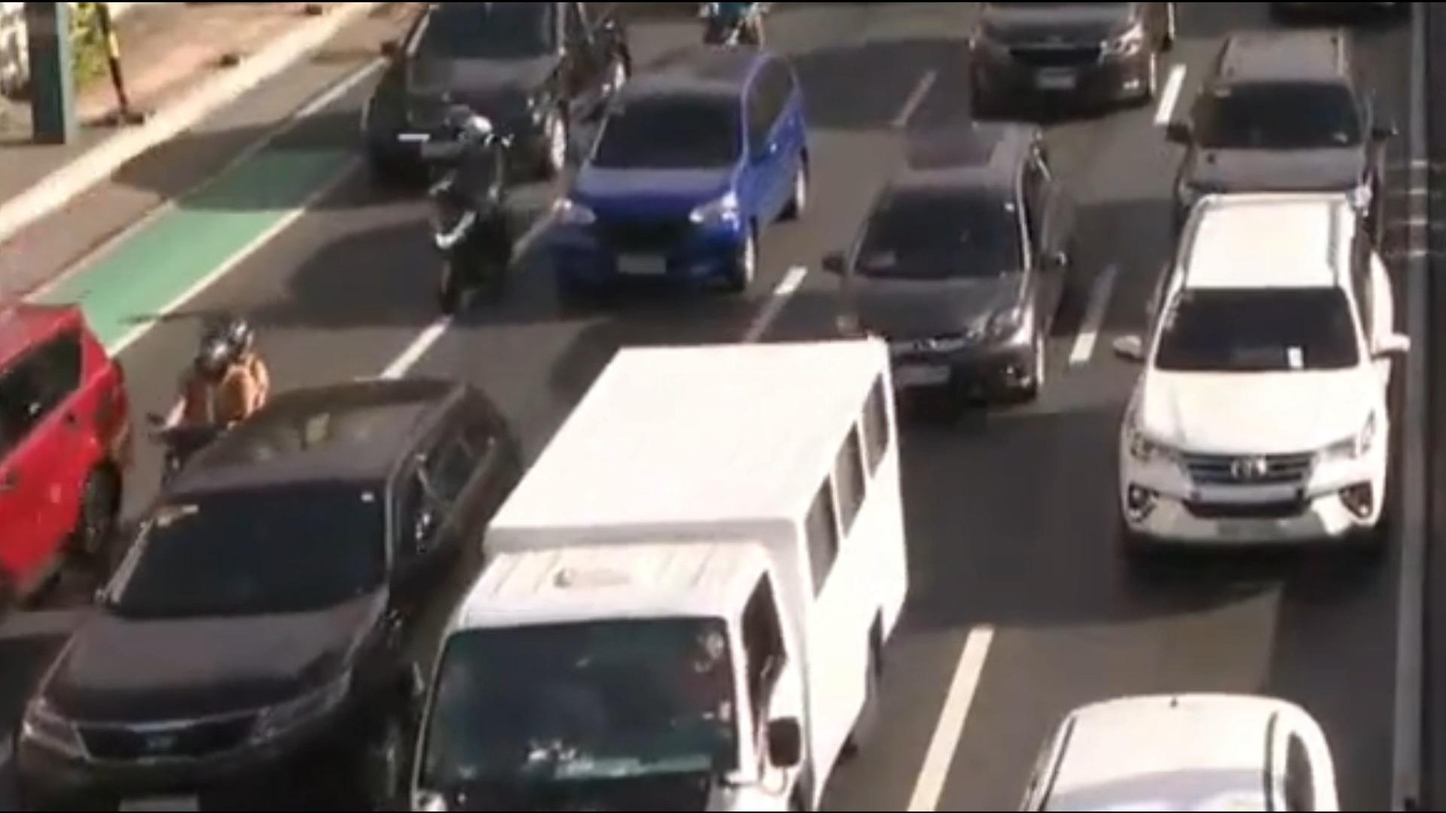Motorcycle: (418, 113, 510, 318), (166, 311, 250, 472)
Multicab: (439, 341, 906, 813)
SUV: (26, 388, 505, 813), (1113, 192, 1401, 559), (823, 105, 1090, 401), (552, 49, 796, 292), (1167, 28, 1391, 260), (356, 0, 638, 175), (0, 305, 115, 580)
Sedan: (1011, 677, 1352, 813)
